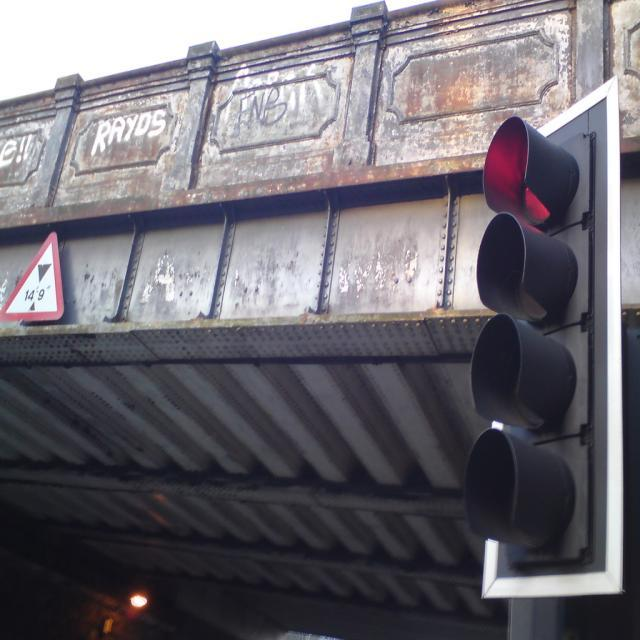traffic light: (462, 76, 625, 601)
